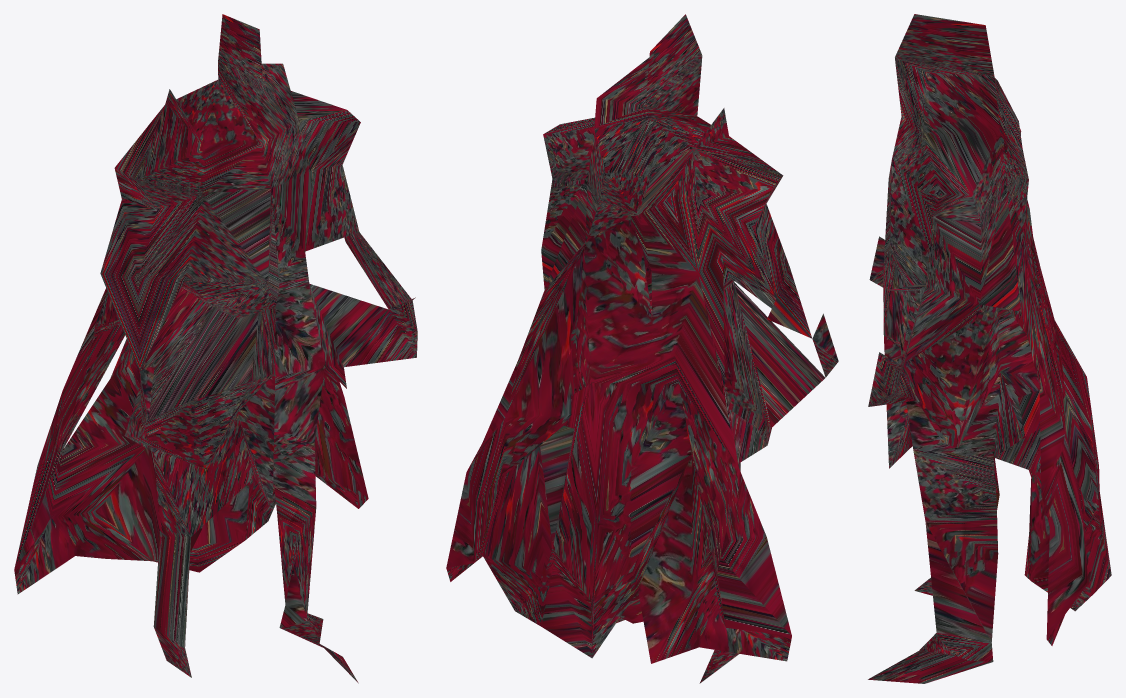
Rendered from ae_raid_captain_lod2.glb.
3 renders of one model, left to right at view 1: azimuth 30°, elevation 25°; view 2: azimuth 150°, elevation 25°; view 3: azimuth 270°, elevation 25°, orthographic. The views are drawn at different scales.
Bounding box in the file's own units: 1.08 × 1.9 × 0.6681.
Materials: 1 (1 with a texture image).
